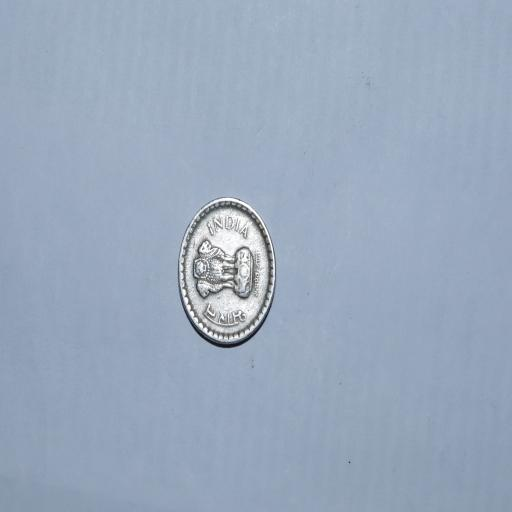rupee5: (175, 194, 280, 349)
